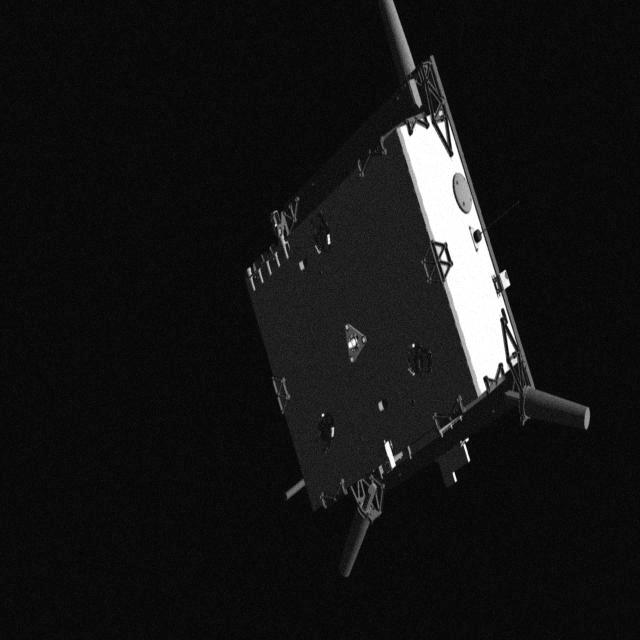satellite: (240, 0, 606, 582)
